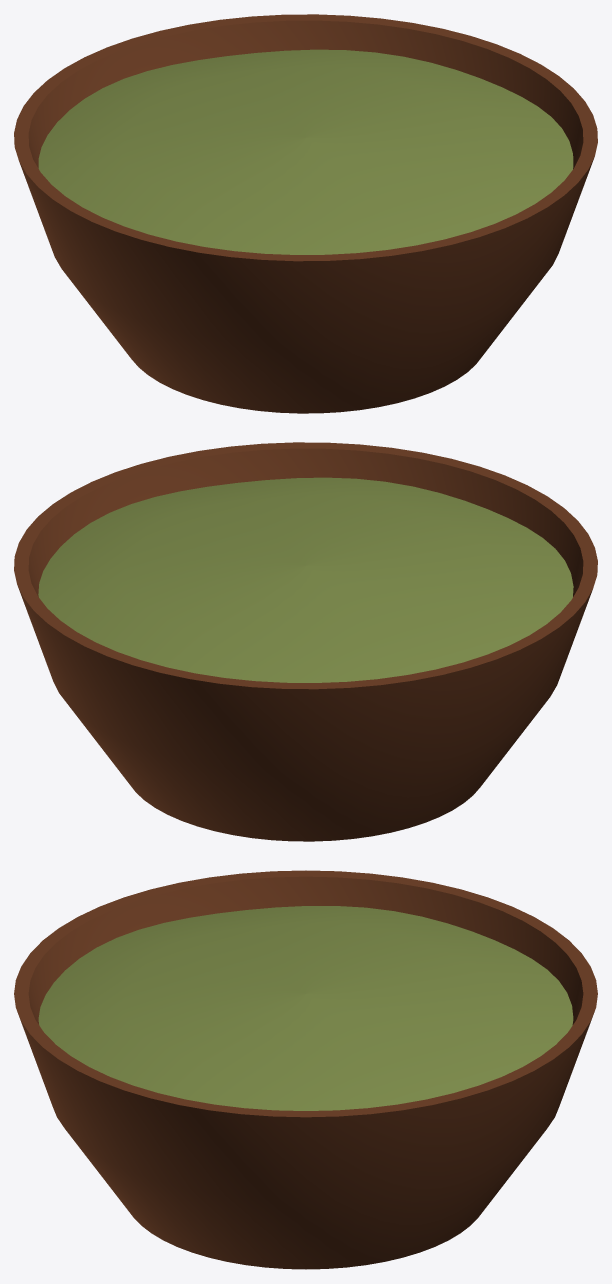
The model's file is cumbuca-feijao_verde.glb.
The picture shows the model from 3 angles, top to bottom: view 1: azimuth 30°, elevation 25°; view 2: azimuth 150°, elevation 25°; view 3: azimuth 270°, elevation 25°; orthographic projection.
Visible parts, largest first — view 1: cumbuca-feijao_verde; view 2: cumbuca-feijao_verde; view 3: cumbuca-feijao_verde.
Boxes of the visible parts, x1=… form: cumbuca-feijao_verde: x1=14, y1=14, x2=597, y2=413; cumbuca-feijao_verde: x1=14, y1=442, x2=597, y2=841; cumbuca-feijao_verde: x1=14, y1=870, x2=597, y2=1269.
Size of the model in its own units: 0.16 by 0.06 by 0.16.
